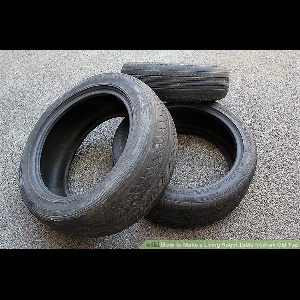tire: (17, 73, 178, 238), (111, 96, 257, 228), (121, 63, 229, 102)
